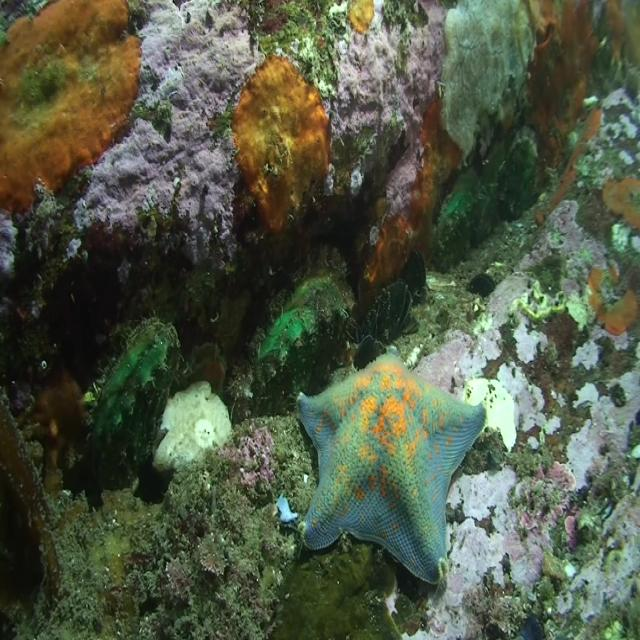starfish: (296, 351, 488, 586)
